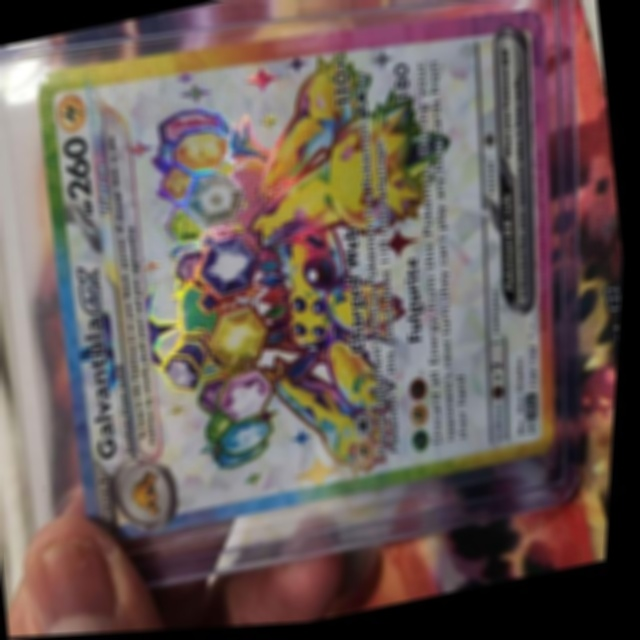card: (38, 12, 561, 541)
